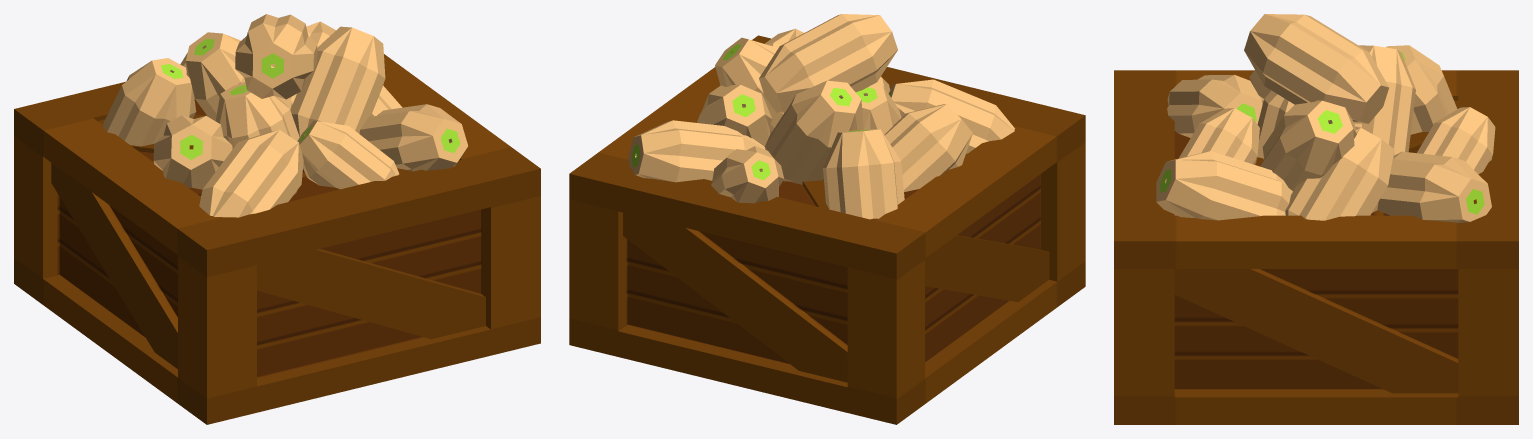
File: SeedBox.fbx
3 renders of one model, left to right at view 1: azimuth 30°, elevation 25°; view 2: azimuth 150°, elevation 25°; view 3: azimuth 270°, elevation 25°, orthographic. The views are drawn at different scales.
Visible parts, largest first — view 1: WoodenBox_01, crop_pumpkin, crop_pumpkin.009, crop_pumpkin.008, crop_pumpkin.010, crop_pumpkin.003, crop_pumpkin.007, crop_pumpkin.011, crop_pumpkin.002, crop_pumpkin.001; view 2: WoodenBox_01, crop_pumpkin.010, crop_pumpkin.002, crop_pumpkin.008, crop_pumpkin.005, crop_pumpkin.011, crop_pumpkin.009, crop_pumpkin.004, crop_pumpkin.006, crop_pumpkin, crop_pumpkin.001; view 3: WoodenBox_01, crop_pumpkin.010, crop_pumpkin.003, crop_pumpkin.005, crop_pumpkin.006, crop_pumpkin, crop_pumpkin.009, crop_pumpkin.002, crop_pumpkin.004, crop_pumpkin.007, crop_pumpkin.008, crop_pumpkin.001.
Boxes of the visible parts, <box> form: WoodenBox_01: <box>14,54,540,424</box>; crop_pumpkin: <box>290,26,385,136</box>; crop_pumpkin.009: <box>199,129,303,217</box>; crop_pumpkin.008: <box>103,58,196,146</box>; crop_pumpkin.010: <box>235,14,317,99</box>; crop_pumpkin.003: <box>359,104,467,171</box>; crop_pumpkin.007: <box>297,120,399,189</box>; crop_pumpkin.011: <box>153,115,232,189</box>; crop_pumpkin.002: <box>186,32,292,120</box>; crop_pumpkin.001: <box>215,82,299,148</box>; WoodenBox_01: <box>569,35,1085,424</box>; crop_pumpkin.010: <box>759,14,897,113</box>; crop_pumpkin.002: <box>765,80,863,184</box>; crop_pumpkin.008: <box>823,129,904,219</box>; crop_pumpkin.005: <box>628,120,765,182</box>; crop_pumpkin.011: <box>884,104,972,191</box>; crop_pumpkin.009: <box>888,79,1014,153</box>; crop_pumpkin.004: <box>711,146,784,203</box>; crop_pumpkin.006: <box>697,84,772,146</box>; crop_pumpkin: <box>715,37,783,134</box>; crop_pumpkin.001: <box>856,83,901,134</box>; WoodenBox_01: <box>1114,70,1518,424</box>; crop_pumpkin.010: <box>1244,14,1389,123</box>; crop_pumpkin.003: <box>1156,151,1292,220</box>; crop_pumpkin.005: <box>1377,151,1491,222</box>; crop_pumpkin.006: <box>1285,126,1394,220</box>; crop_pumpkin: <box>1260,100,1356,191</box>; crop_pumpkin.009: <box>1167,74,1263,137</box>; crop_pumpkin.002: <box>1354,45,1415,155</box>; crop_pumpkin.004: <box>1417,107,1495,174</box>; crop_pumpkin.007: <box>1179,108,1259,164</box>; crop_pumpkin.008: <box>1386,45,1457,134</box>; crop_pumpkin.001: <box>1257,90,1294,158</box>.
Size of the model in its own units: 20 by 17.14 by 20.
Materials: 25 (1 with a texture image).
